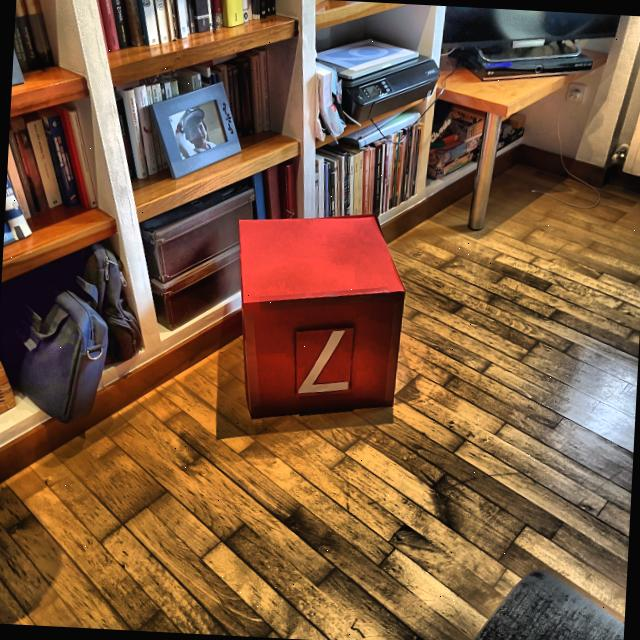red box: (228, 210, 408, 426)
seven: (297, 328, 356, 397)
